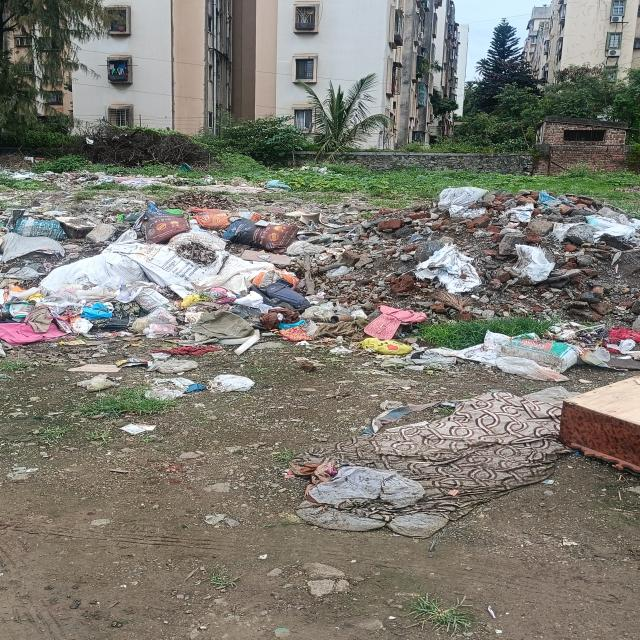garbage: (321, 190, 640, 511), (9, 174, 316, 397)
